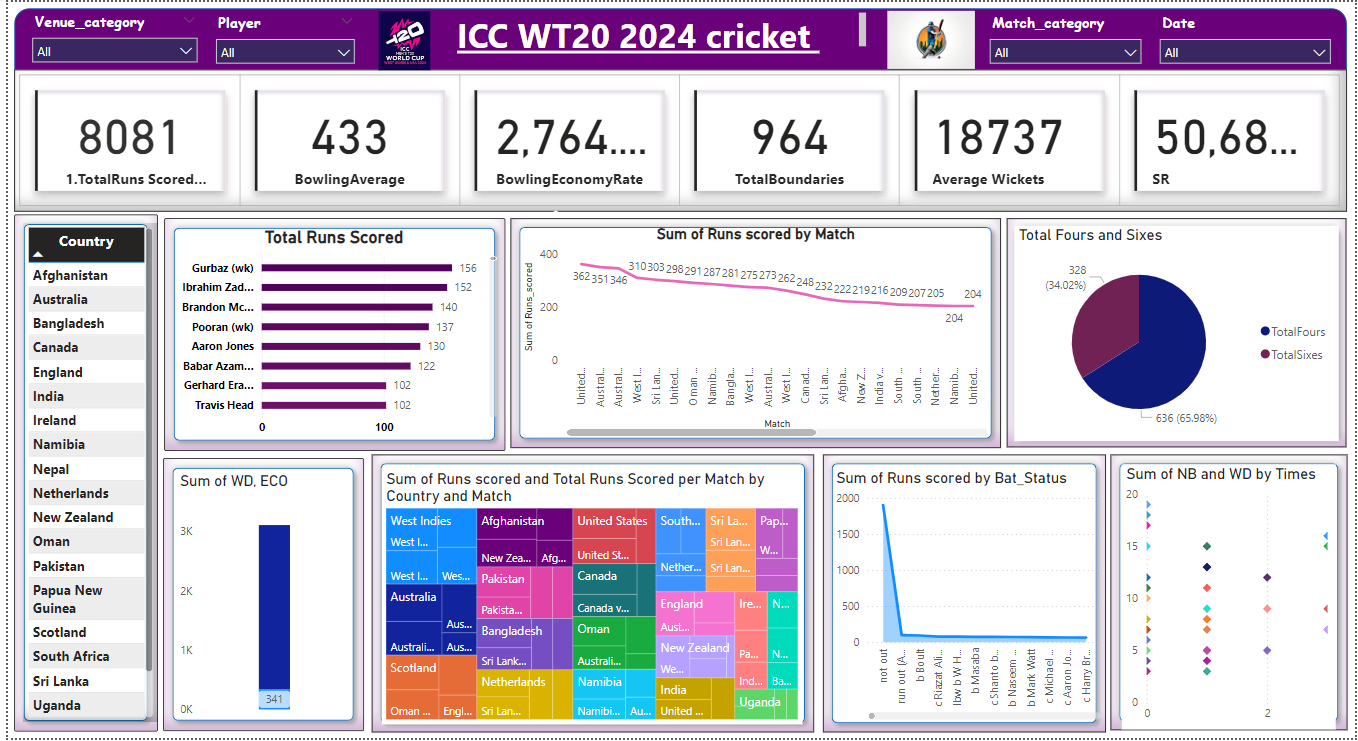

What the dashboard file says about the page in this screenshot:
{"tool":"powerbi","page":{"name":"Dashboard 1","canvas":[1500,820],"ordinal":0},"visuals":[{"type":"cardVisual","fields":{"Data":["iccwt20_2024.1.TotalRuns Scored per Match","iccwt20_2024.BowlingAverage","iccwt20_2024.BowlingEconomyRate","iccwt20_2024.TotalBoundaries","iccwt20_2024.Average Wickets","iccwt20_2024.SR"]},"box":[7.1,75.3,1484.7,158.2],"z":0},{"type":"shape","box":[7.1,6.5,1484.7,68.8],"z":1000},{"type":"textbox","box":[451.4,7.1,510,60],"z":2000},{"type":"image","box":[396.4,5.4,89.3,75],"z":3000},{"type":"shape","box":[173.6,240.9,380,259.1],"z":4000},{"type":"clusteredBarChart","title":"Total Runs Scored","fields":{"Category":["iccwt20_2024.Player"],"Y":["iccwt20_2024.1.TotalRuns Scored per Match"]},"box":[177.3,250,372.7,240.9],"z":5000},{"type":"shape","box":[559.4,240.6,546.2,255.6],"z":6000},{"type":"shape","box":[7.1,236.4,160,575.7],"z":7000},{"type":"tableEx","fields":{"Values":["iccwt20_2024.Country"]},"box":[17.1,246.4,150,555.7],"z":8000},{"type":"lineChart","title":"Sum of Runs scored by Match","fields":{"Category":["iccwt20_2024.Match"],"Y":["iccwt20_2024.Runs_scored"]},"box":[569.1,248.2,527.3,240.9],"z":9000},{"type":"shape","box":[172.5,508.8,223.8,303.8],"z":10000},{"type":"lineStackedColumnComboChart","title":"Sum of WD, ECO","fields":{"Y":["iccwt20_2024.WD_Conseded","iccwt20_2024.ECO_Conseded"]},"box":[186.2,523.8,198.8,278.8],"z":11000},{"type":"shape","box":[1112.5,241.2,378.8,255],"z":12000},{"type":"pieChart","title":"Total Fours and Sixes","fields":{"Y":["iccwt20_2024.TotalFours","iccwt20_2024.TotalSixes"]},"box":[1121.2,248.8,361.2,240],"z":13000},{"type":"shape","box":[907.5,504.4,315,309.4],"z":14000},{"type":"areaChart","title":"Sum of Runs scored by Bat_Status","fields":{"Category":["iccwt20_2024.Bat_Status"],"Y":["iccwt20_2024.Runs_scored"]},"box":[917.5,520,305,285],"z":15000},{"type":"shape","box":[405,504.3,492.9,309.3],"z":16000},{"type":"treemap","title":"Sum of Runs scored and Total Runs Scored per Match by Country and Match","fields":{"Group":["iccwt20_2024.Country"],"Values":["iccwt20_2024.Runs_scored"],"Details":["iccwt20_2024.Match"]},"box":[416.2,521.2,468.8,283.8],"z":17000},{"type":"shape","box":[1228.1,504.4,263.8,307.5],"z":18000},{"type":"scatterChart","title":"Sum of NB and  WD by Times","fields":{"Category":["iccwt20_2024.Times"],"X":["iccwt20_2024.NB_Conseded"],"Y":["iccwt20_2024.WD_Conseded"]},"box":[1240.8,514.6,238.5,295.4],"z":19000},{"type":"slicer","fields":{"Values":["iccwt20_2024.Player"]},"box":[221.4,7.1,175,66.1],"z":20000},{"type":"slicer","fields":{"Values":["iccwt20_2024.Venue"]},"box":[17,6,204,68],"z":21000},{"type":"slicer","fields":{"Values":["iccwt20_2024.Match"]},"box":[1082.9,6.7,189.5,69],"z":22000},{"type":"image","box":[975.4,3.8,107.7,76.2],"z":23000},{"type":"slicer","fields":{"Values":["iccwt20_2024.Times"]},"box":[1272.4,7.1,210.5,69],"z":24000}]}

Visuals, with their boxes in screenshot pixels (x1, y1, x2, y2), scaled from the page's 1500x820 canvas onto the 1358x741 screenshot:
cardVisual - iccwt20_2024.1.TotalRuns Scored per Match x iccwt20_2024.BowlingAverage: <bbox>6, 68, 1351, 211</bbox>
shape: <bbox>6, 6, 1351, 68</bbox>
textbox: <bbox>409, 6, 870, 61</bbox>
image: <bbox>359, 5, 440, 73</bbox>
shape: <bbox>157, 218, 501, 452</bbox>
"Total Runs Scored" clusteredBarChart: <bbox>161, 226, 498, 444</bbox>
shape: <bbox>506, 217, 1001, 448</bbox>
shape: <bbox>6, 214, 151, 734</bbox>
tableEx - iccwt20_2024.Country: <bbox>15, 223, 151, 725</bbox>
"Sum of Runs scored by Match" lineChart: <bbox>515, 224, 993, 442</bbox>
shape: <bbox>156, 460, 359, 734</bbox>
"Sum of WD, ECO" lineStackedColumnComboChart: <bbox>169, 473, 349, 725</bbox>
shape: <bbox>1007, 218, 1350, 448</bbox>
"Total Fours and Sixes" pieChart: <bbox>1015, 225, 1342, 442</bbox>
shape: <bbox>822, 456, 1107, 735</bbox>
"Sum of Runs scored by Bat_Status" areaChart: <bbox>831, 470, 1107, 727</bbox>
shape: <bbox>367, 456, 813, 735</bbox>
"Sum of Runs scored and Total Runs Scored per Match by Country and Match" treemap: <bbox>377, 471, 801, 727</bbox>
shape: <bbox>1112, 456, 1351, 734</bbox>
"Sum of NB and  WD by Times" scatterChart: <bbox>1123, 465, 1339, 732</bbox>
slicer - iccwt20_2024.Player: <bbox>200, 6, 359, 66</bbox>
slicer - iccwt20_2024.Venue: <bbox>15, 5, 200, 67</bbox>
slicer - iccwt20_2024.Match: <bbox>980, 6, 1152, 68</bbox>
image: <bbox>883, 3, 981, 72</bbox>
slicer - iccwt20_2024.Times: <bbox>1152, 6, 1343, 69</bbox>
